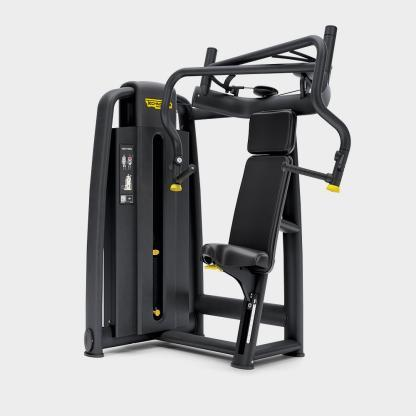Chest Press machine: (74, 22, 358, 374)
